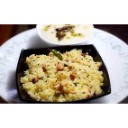venpongal: (24, 56, 102, 96)
